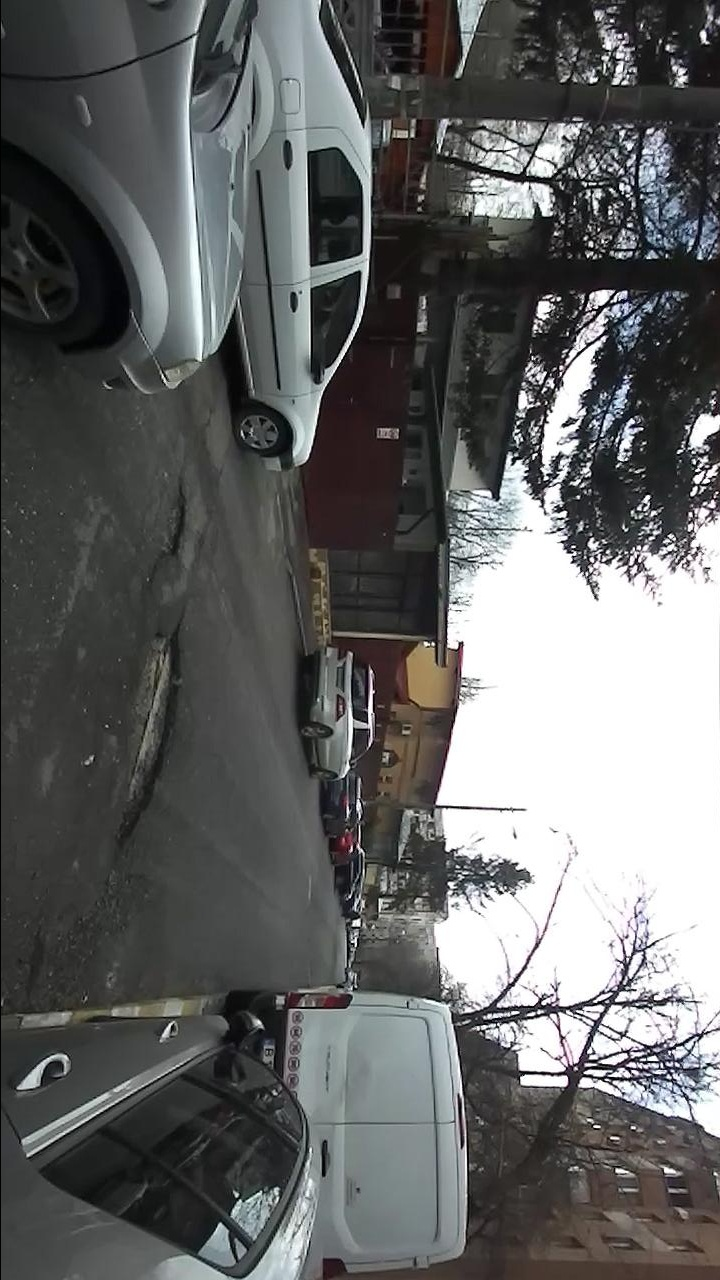pothole: (104, 625, 184, 857), (144, 479, 192, 587)
